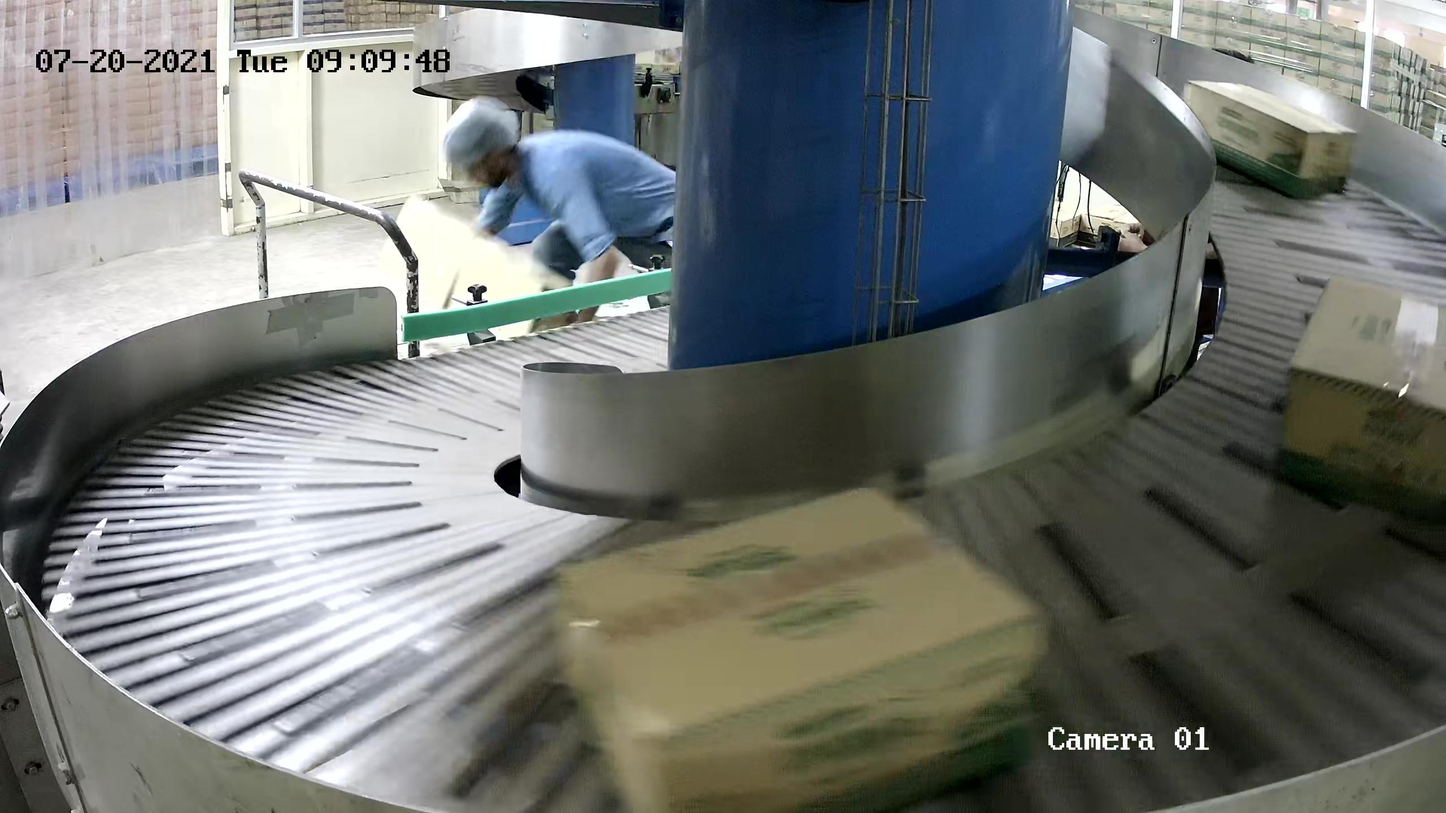Box: (553, 483, 1056, 813), (1266, 272, 1446, 534), (1167, 73, 1360, 203)
